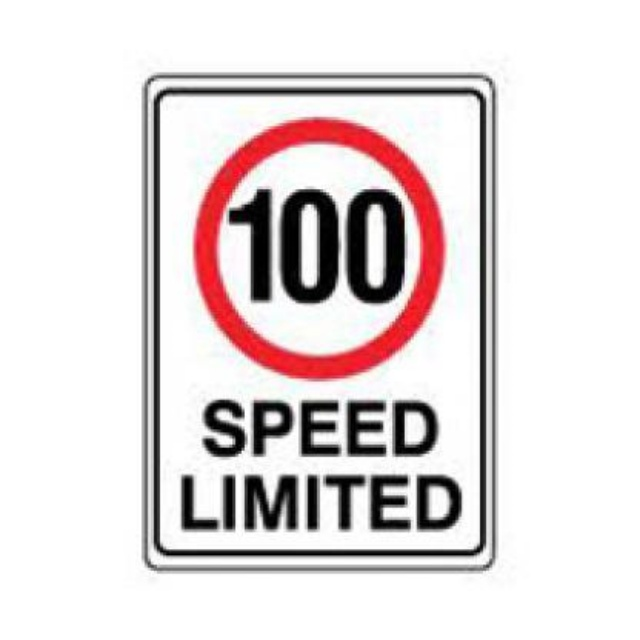Tốc độ tối đa cho phép 100km/h: (197, 120, 448, 380)
